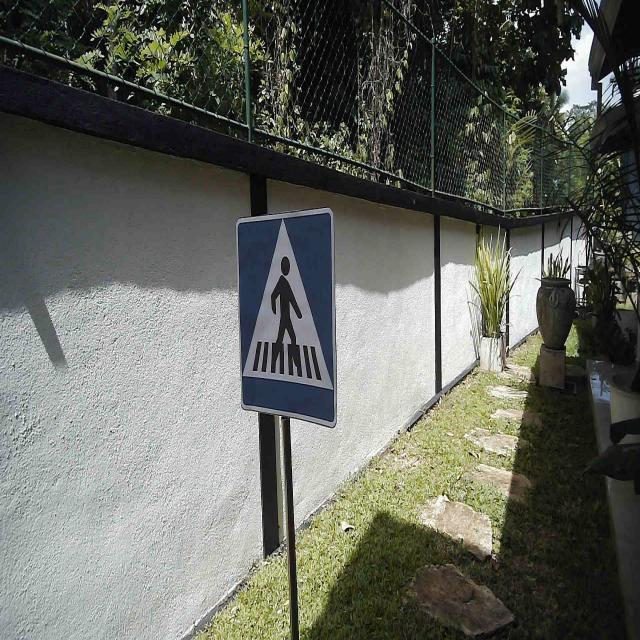crosswalk_sign: (234, 206, 340, 432)
